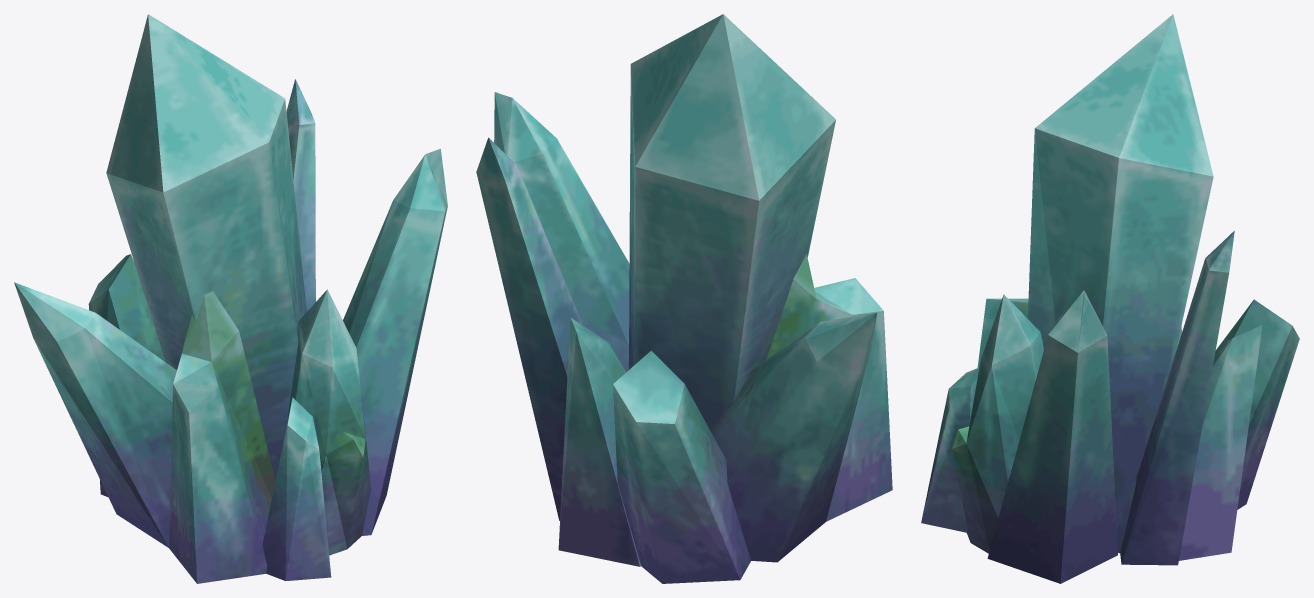
Rendered from dx_shuijing_5.FBX.
3 views of the same model, side by side, from view 1: azimuth 30°, elevation 25°; view 2: azimuth 150°, elevation 25°; view 3: azimuth 270°, elevation 25° (orthographic). The views are drawn at different scales.
Parts seen in each view (by area): view 1: dx_shuijing_5; view 2: dx_shuijing_5; view 3: dx_shuijing_5.
Part boxes in pixels (box(x1,y1,x2,y2)): dx_shuijing_5: box(14, 14, 447, 583); dx_shuijing_5: box(476, 14, 892, 583); dx_shuijing_5: box(921, 14, 1299, 583).
Size of the model in its own units: 102 by 122 by 87.11.
